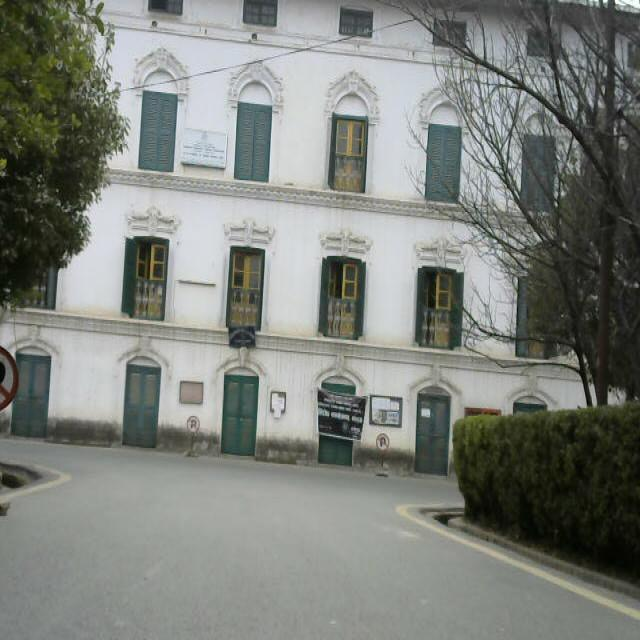Buildings: (86, 2, 496, 490)
NoParking: (371, 429, 406, 494), (183, 410, 206, 475), (1, 346, 19, 416)
Road: (0, 453, 564, 636)
trees: (423, 7, 640, 389), (3, 0, 97, 290)
